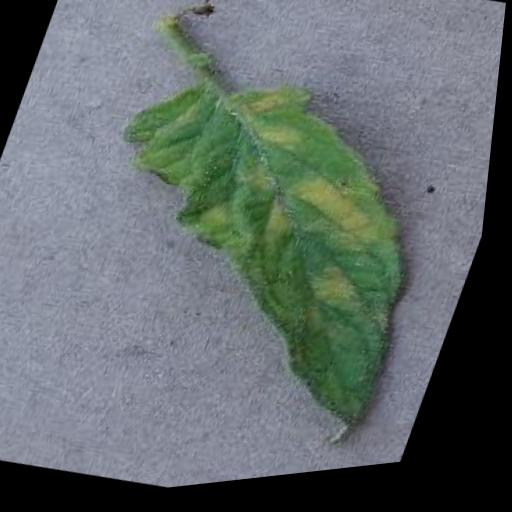Leaf Mold: (36, 38, 482, 475)
